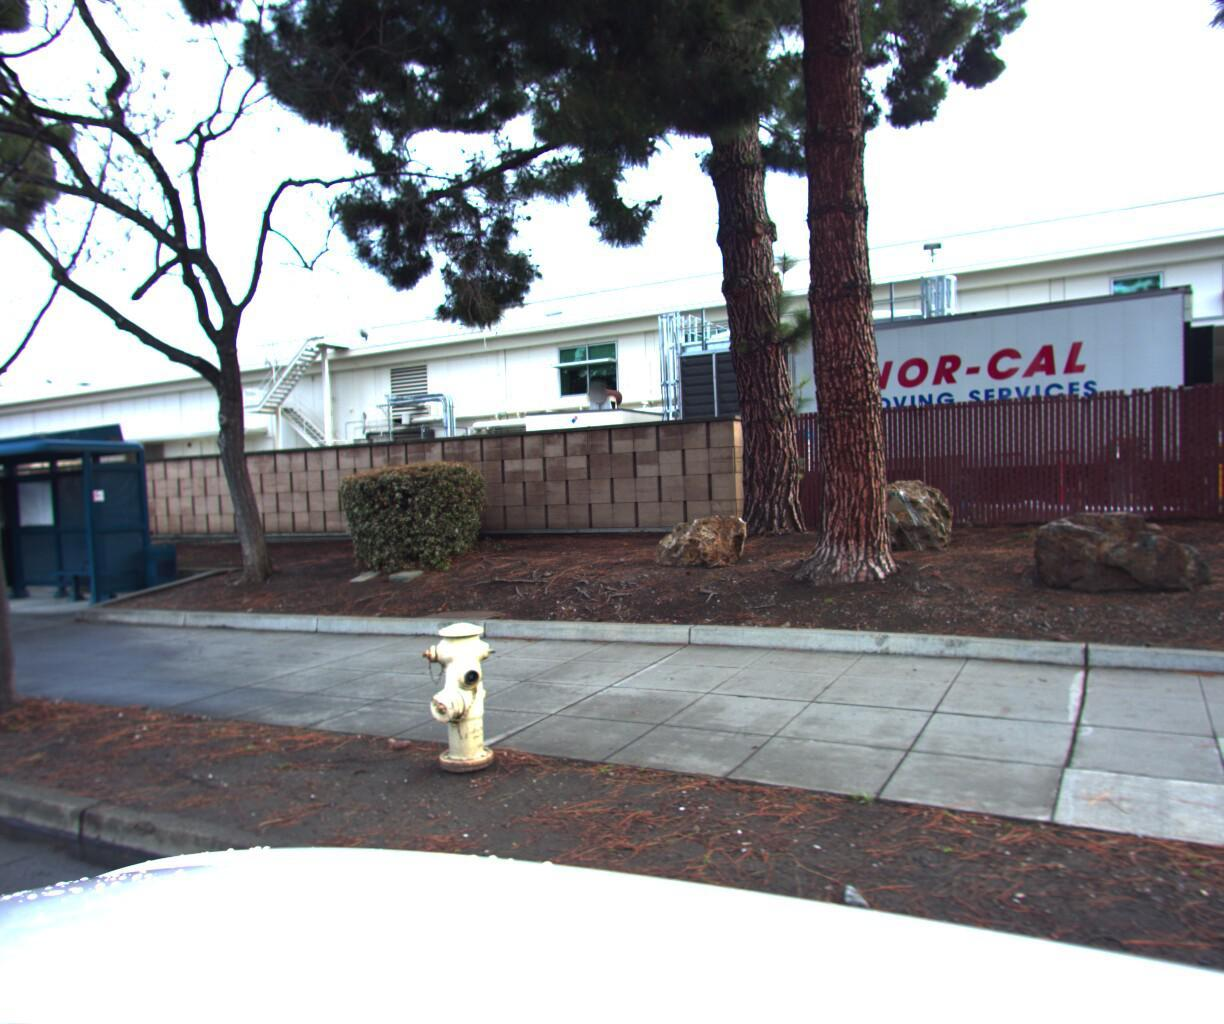truck: (710, 272, 1214, 522)
